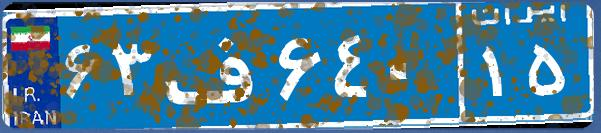0: (385, 28, 445, 110)
1: (475, 38, 525, 113)
3: (110, 28, 158, 105)
4: (330, 28, 385, 110)
5: (525, 38, 570, 115)
6: (273, 28, 330, 110), (57, 26, 110, 107)
ف: (158, 15, 273, 115)
